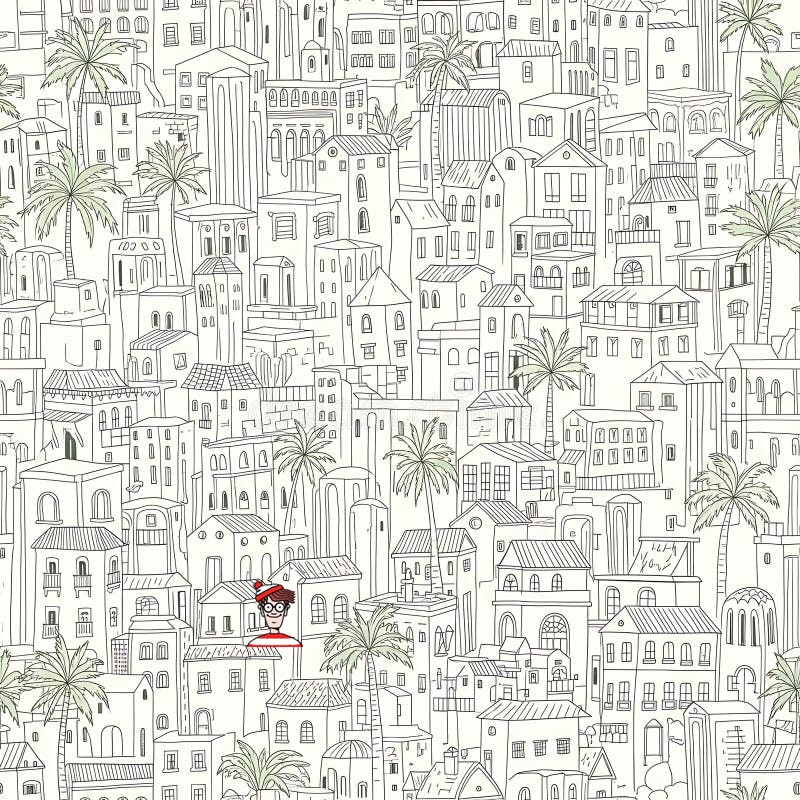waldo: (246, 580, 303, 647)
